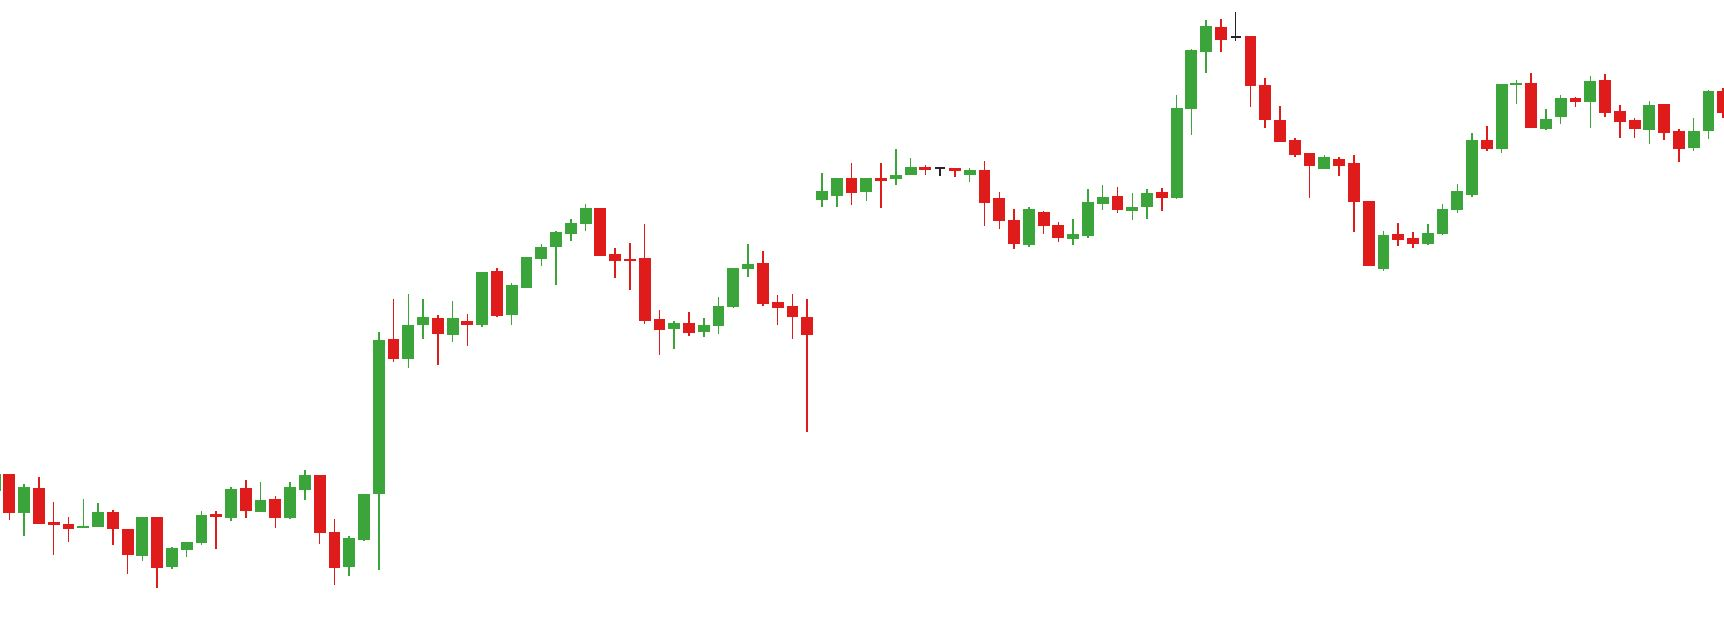buy: (210, 492, 360, 587)
